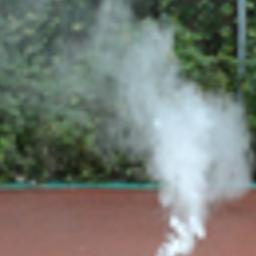smoke: (0, 0, 251, 254)
